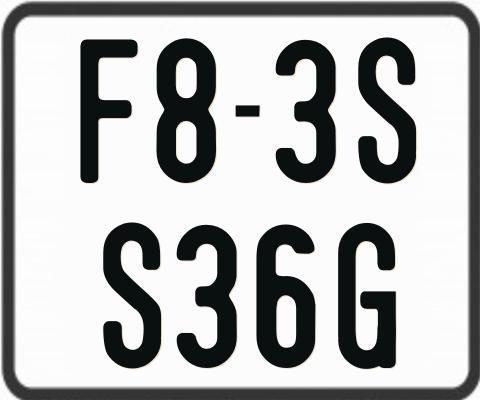3: (274, 37, 339, 186), (174, 222, 239, 367)
6: (254, 224, 316, 370)
8: (154, 35, 219, 182)
F: (79, 38, 137, 182)
G: (337, 221, 399, 368)
S: (103, 220, 161, 371), (358, 38, 417, 185)
